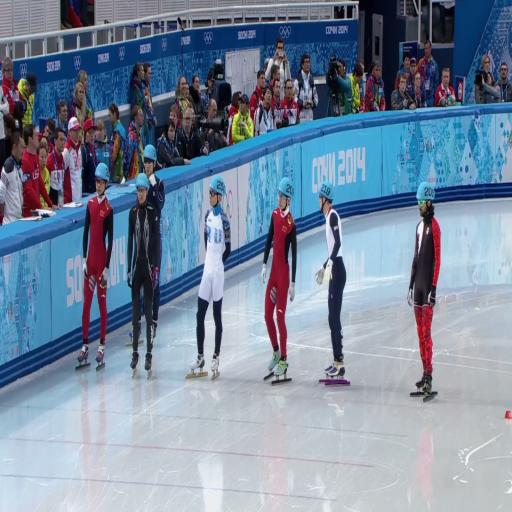Skater: (186, 176, 230, 379), (76, 163, 113, 370), (262, 178, 296, 384), (408, 183, 440, 401), (127, 174, 160, 377), (317, 181, 349, 385), (144, 145, 165, 224)
